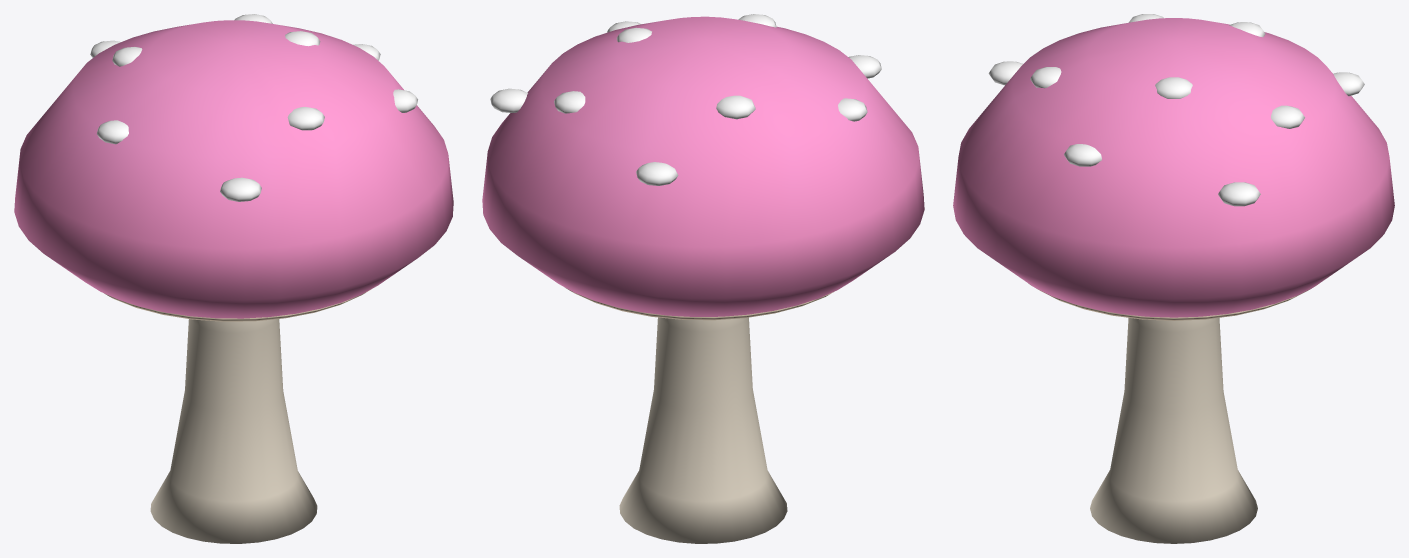
The model's file is bg_mush_pink.glb.
The picture shows the model from 3 angles, left to right: view 1: azimuth 30°, elevation 25°; view 2: azimuth 150°, elevation 25°; view 3: azimuth 270°, elevation 25°; orthographic projection.
Visible parts, largest first — view 1: M_Mush_pink__m_cap_pink, M_Mush_pink__m_stem, M_Mush_pink__m_spot, M_Mush_pink__m_under; view 2: M_Mush_pink__m_cap_pink, M_Mush_pink__m_stem, M_Mush_pink__m_spot, M_Mush_pink__m_under; view 3: M_Mush_pink__m_cap_pink, M_Mush_pink__m_stem, M_Mush_pink__m_spot, M_Mush_pink__m_under.
Part boxes in pixels (left/top/right/bottom): M_Mush_pink__m_cap_pink: left=14, top=20, right=453, bottom=318; M_Mush_pink__m_stem: left=150, top=319, right=317, bottom=543; M_Mush_pink__m_spot: left=90, top=14, right=417, bottom=201; M_Mush_pink__m_under: left=104, top=289, right=371, bottom=321; M_Mush_pink__m_cap_pink: left=482, top=16, right=924, bottom=316; M_Mush_pink__m_stem: left=619, top=317, right=787, bottom=543; M_Mush_pink__m_spot: left=490, top=14, right=881, bottom=185; M_Mush_pink__m_under: left=566, top=288, right=834, bottom=320; M_Mush_pink__m_cap_pink: left=953, top=18, right=1394, bottom=317; M_Mush_pink__m_stem: left=1090, top=318, right=1257, bottom=543; M_Mush_pink__m_spot: left=988, top=14, right=1364, bottom=206; M_Mush_pink__m_under: left=1028, top=283, right=1319, bottom=320.
Size of the model in its own units: 4.1 by 4.78 by 4.1.
